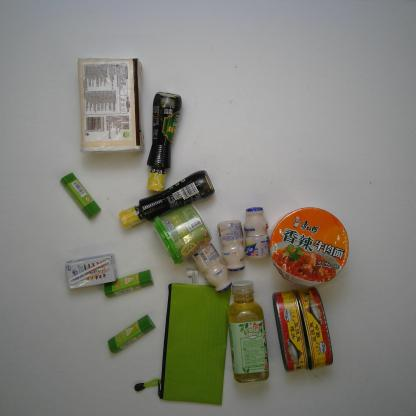Canned Food: (293, 280, 333, 372), (269, 284, 309, 373)
Drink: (226, 276, 272, 384)
Instant Drink: (149, 197, 212, 265)
Instant Noodles: (267, 204, 351, 288)
Milk: (192, 240, 236, 294), (62, 253, 118, 292), (216, 218, 249, 272), (243, 205, 272, 260)
Seasoner: (119, 169, 217, 230), (146, 90, 182, 192)
Stationery: (133, 268, 231, 406), (106, 312, 158, 356), (60, 172, 101, 220), (103, 268, 155, 299)
Tissue: (76, 52, 148, 155)
